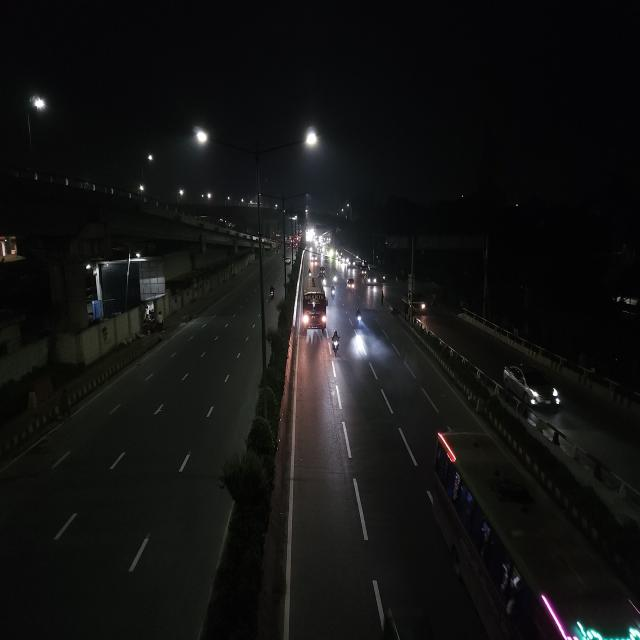bus: (427, 423, 638, 640), (301, 286, 329, 336)
car: (500, 358, 564, 419), (363, 272, 377, 288)
cng: (346, 274, 356, 292)
motorcycle: (329, 328, 342, 358), (354, 307, 364, 330), (268, 283, 276, 302), (331, 284, 337, 302)
pedestrian: (380, 289, 385, 306)
pickup_van: (402, 288, 427, 316)
